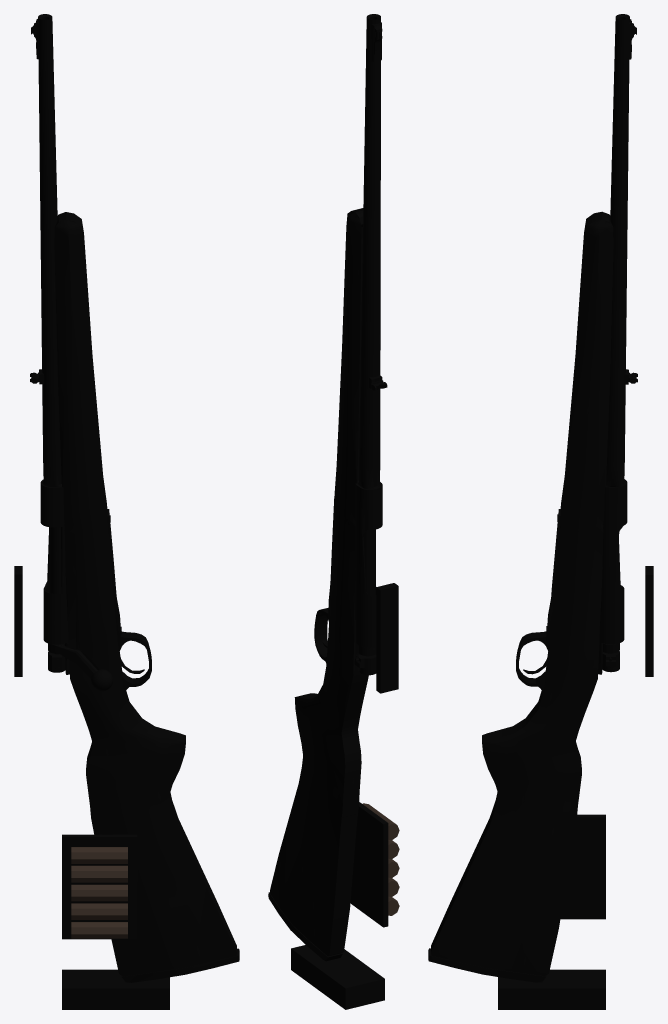
File: Win70__Mount_ScopeBase__RecoilPad_Rubber__ShellHolder_Butt.fbx
3 renders of one model, left to right at view 1: azimuth 90°, elevation 25°; view 2: azimuth 210°, elevation 25°; view 3: azimuth 270°, elevation 25°, orthographic.
Parts seen in each view (by area): view 1: asset_Win70.001; view 2: asset_Win70.001; view 3: asset_Win70.001.
Boxes of the visible parts, bbox=[...] form: asset_Win70.001: bbox=[14, 14, 239, 1009]; asset_Win70.001: bbox=[268, 14, 399, 1009]; asset_Win70.001: bbox=[428, 14, 653, 1009].
Bounding box in the file's own units: 0.0429 × 0.693 × 0.1441.
